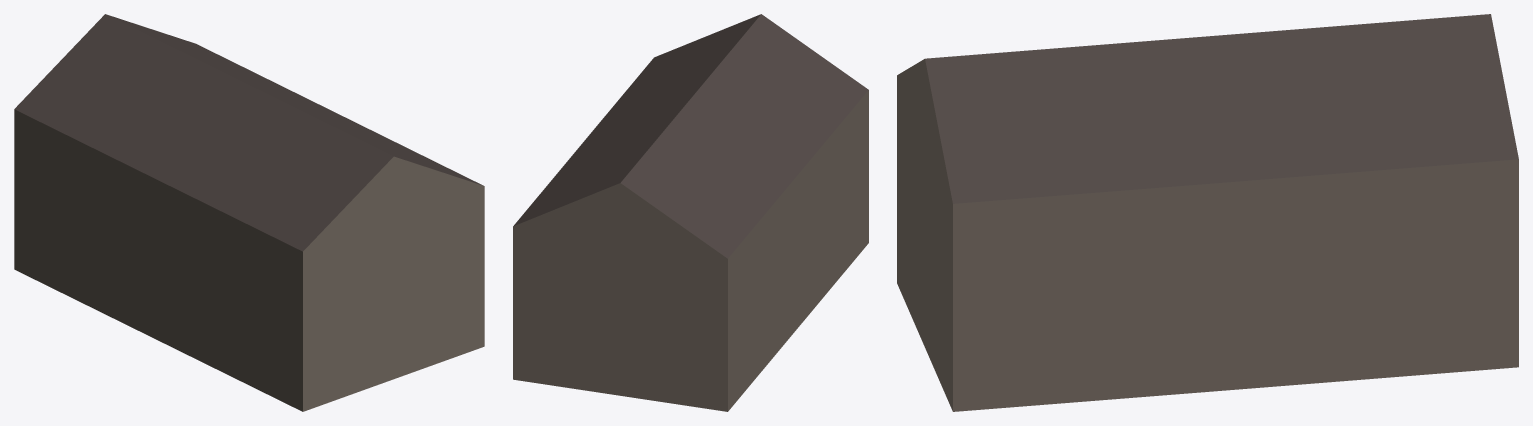
The picture shows the model from 3 angles, left to right: view 1: azimuth 30°, elevation 25°; view 2: azimuth 150°, elevation 25°; view 3: azimuth 270°, elevation 25°; orthographic projection. The views are drawn at different scales.
Visible parts, largest first — view 1: HP-w408450805; view 2: HP-w408450805; view 3: HP-w408450805.
Boxes of the visible parts, x1,y1,x2,y2 form: HP-w408450805: [14, 14, 484, 411]; HP-w408450805: [513, 14, 868, 411]; HP-w408450805: [897, 14, 1518, 411].
Size of the model in its own units: 10.73 by 8.34 by 16.27.
